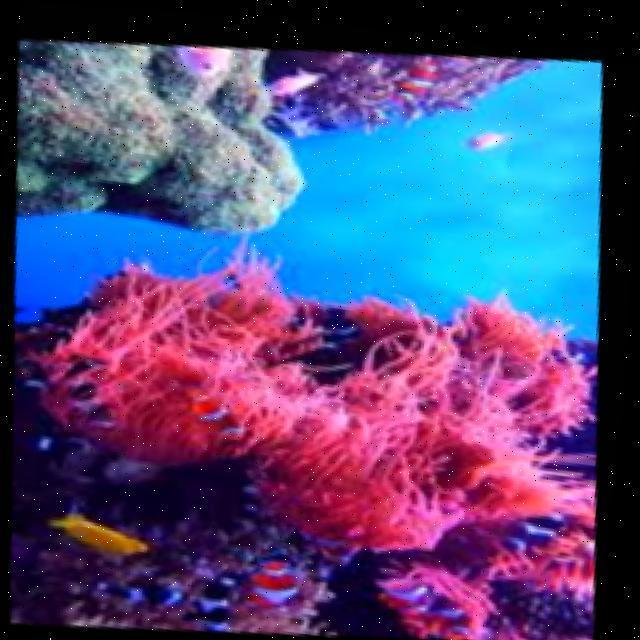Healthy Coral: (39, 261, 592, 548)
